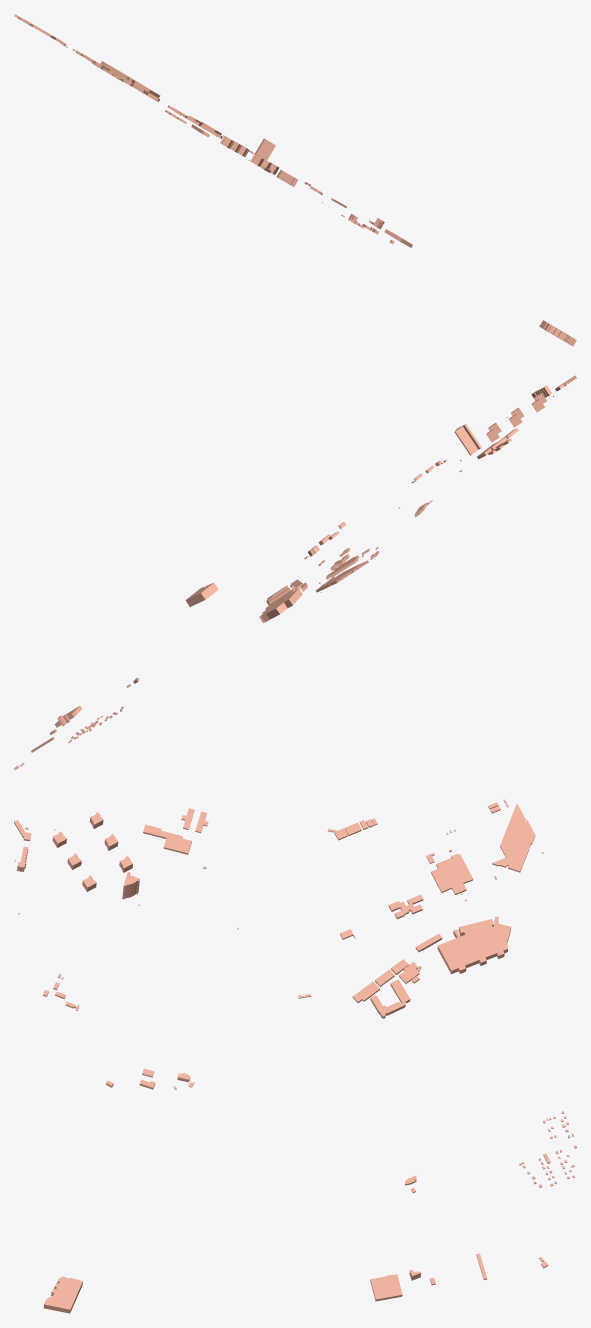
The picture shows the model from 3 angles, top to bottom: view 1: azimuth 30°, elevation 25°; view 2: azimuth 150°, elevation 25°; view 3: azimuth 270°, elevation 25°; orthographic projection. The views are drawn at different scales.
Bounding box in the file's own units: 1068 × 779 × 1251.
